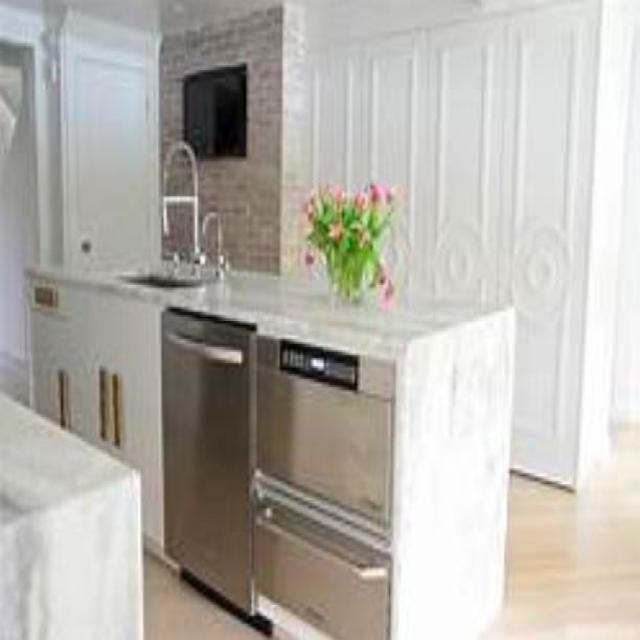dishwasher: (161, 308, 255, 622)
